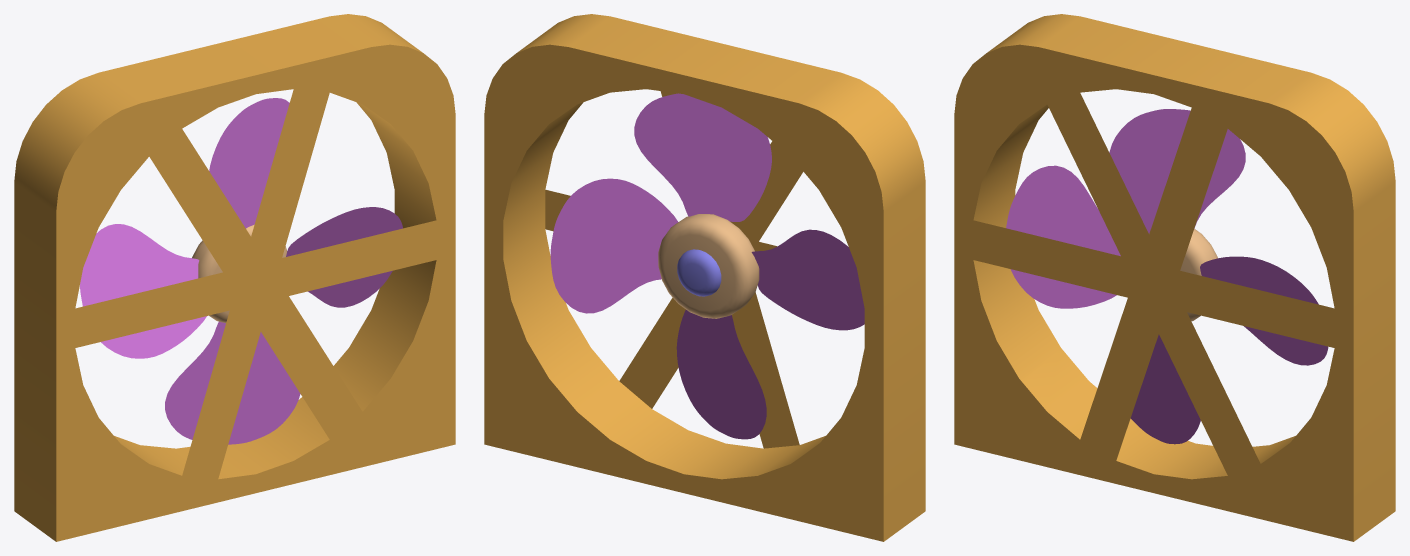
Rendered from Fan3.fbx.
3 views of the same model, side by side, from view 1: azimuth 30°, elevation 25°; view 2: azimuth 150°, elevation 25°; view 3: azimuth 330°, elevation 25° (orthographic).
Visible parts, largest first — view 1: Fan.001, Fan; view 2: Fan.001, Fan; view 3: Fan.001, Fan.
Part boxes in pixels (x1,y1,x2,y2): Fan.001: [14, 14, 455, 541]; Fan: [80, 98, 402, 444]; Fan.001: [484, 14, 925, 541]; Fan: [550, 93, 864, 439]; Fan.001: [954, 14, 1395, 541]; Fan: [1006, 109, 1328, 444].
Size of the model in its own units: 220 by 220 by 40.
